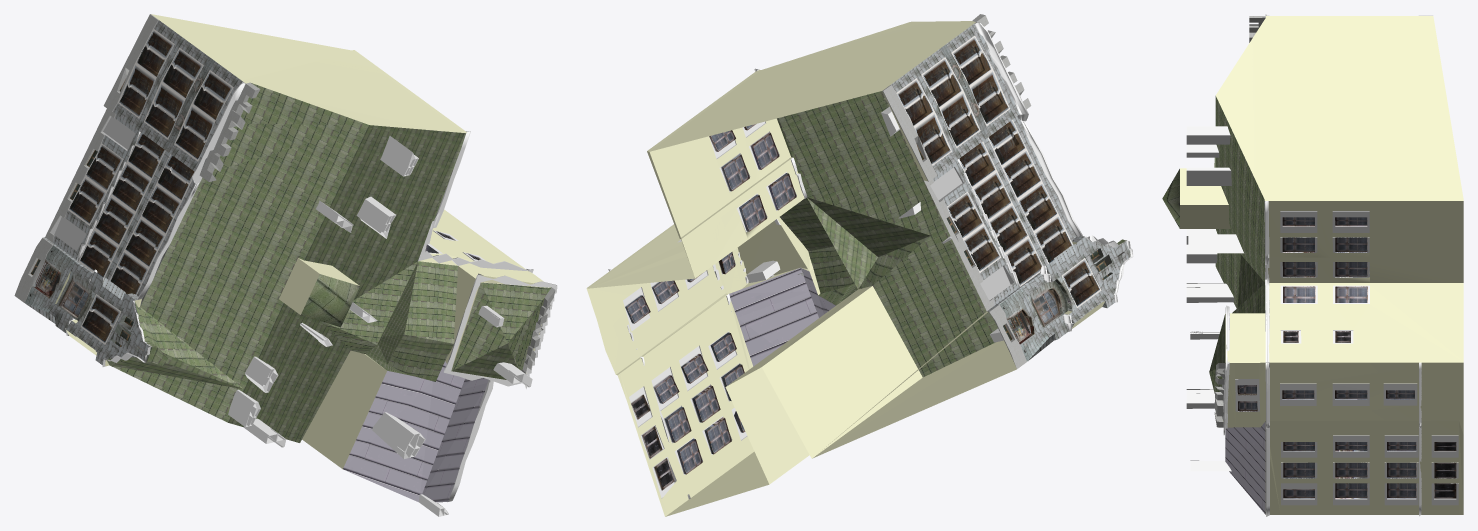
Rendered from Pikk_52-origo.obj.
3 renders of one model, left to right at view 1: azimuth 30°, elevation 25°; view 2: azimuth 150°, elevation 25°; view 3: azimuth 270°, elevation 25°, orthographic. The views are drawn at different scales.
Parts seen in each view (by area): view 1: Box01; view 2: Box01; view 3: Box01.
Part boxes in pixels (<box>): Box01: <box>14,14,557,516</box>; Box01: <box>586,14,1133,516</box>; Box01: <box>1162,14,1463,516</box>.
Size of the model in its own units: 30.94 by 32 by 21.21.
